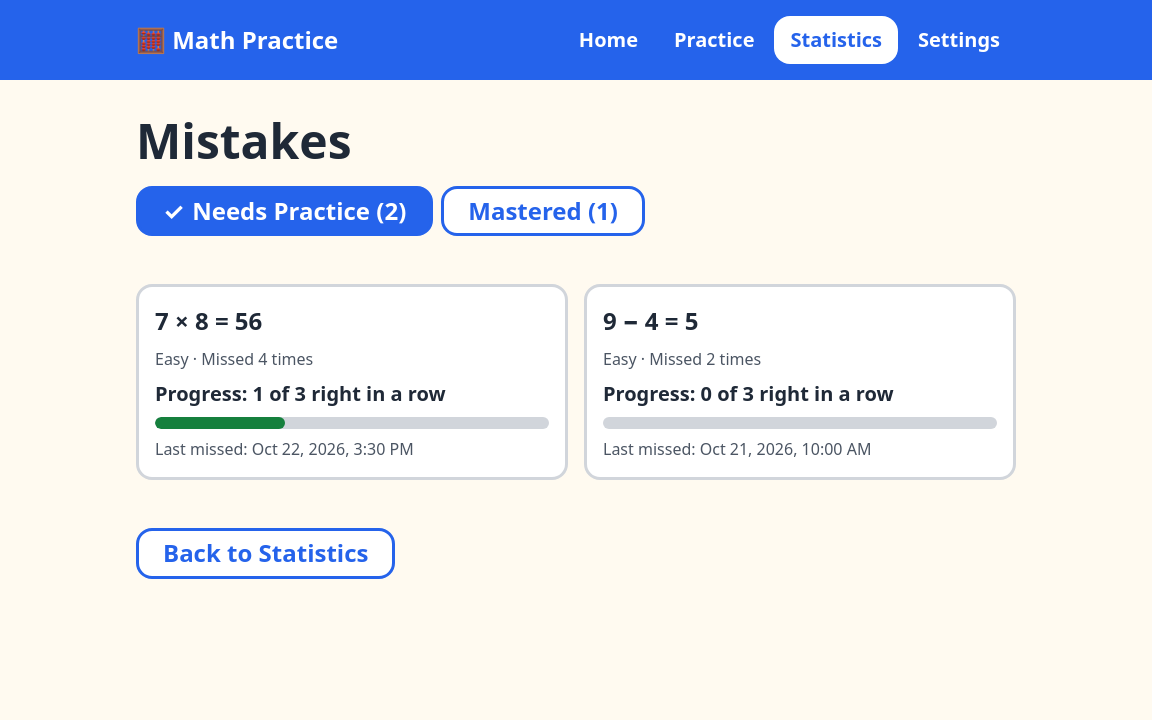
MistakesPage › shows mastered mistakes separately
What coordinates should you click on to do the following:
click the button "Mastered (1)"
I would click on:
 (543, 211)
Its box is [441,186,645,236].
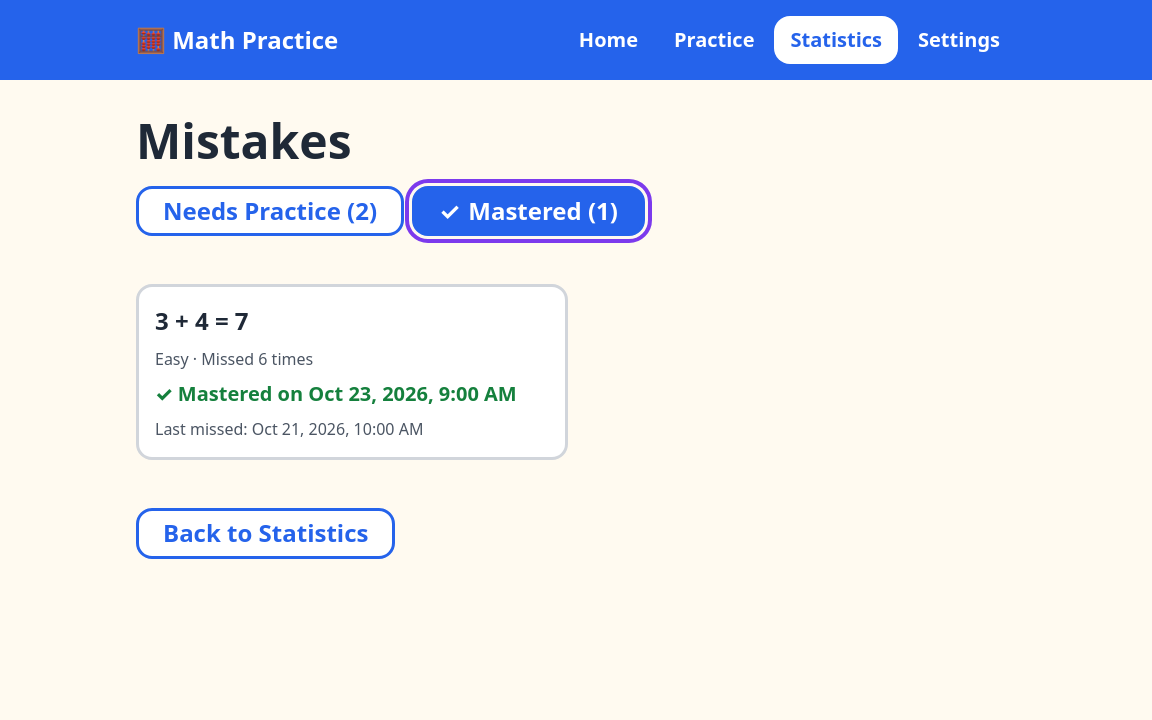
Expected: the list item that starts with "Easy" shows "3 + 4 = 7", [155,304,249,337]
Expected: the list item that starts with "Easy" shows "Mastered on", [178,380,303,407]
